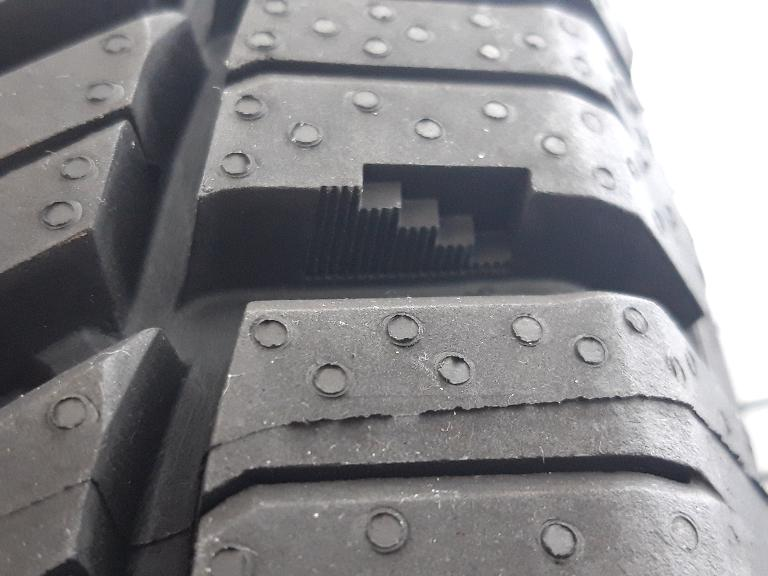temoin:100: (305, 157, 543, 287)
